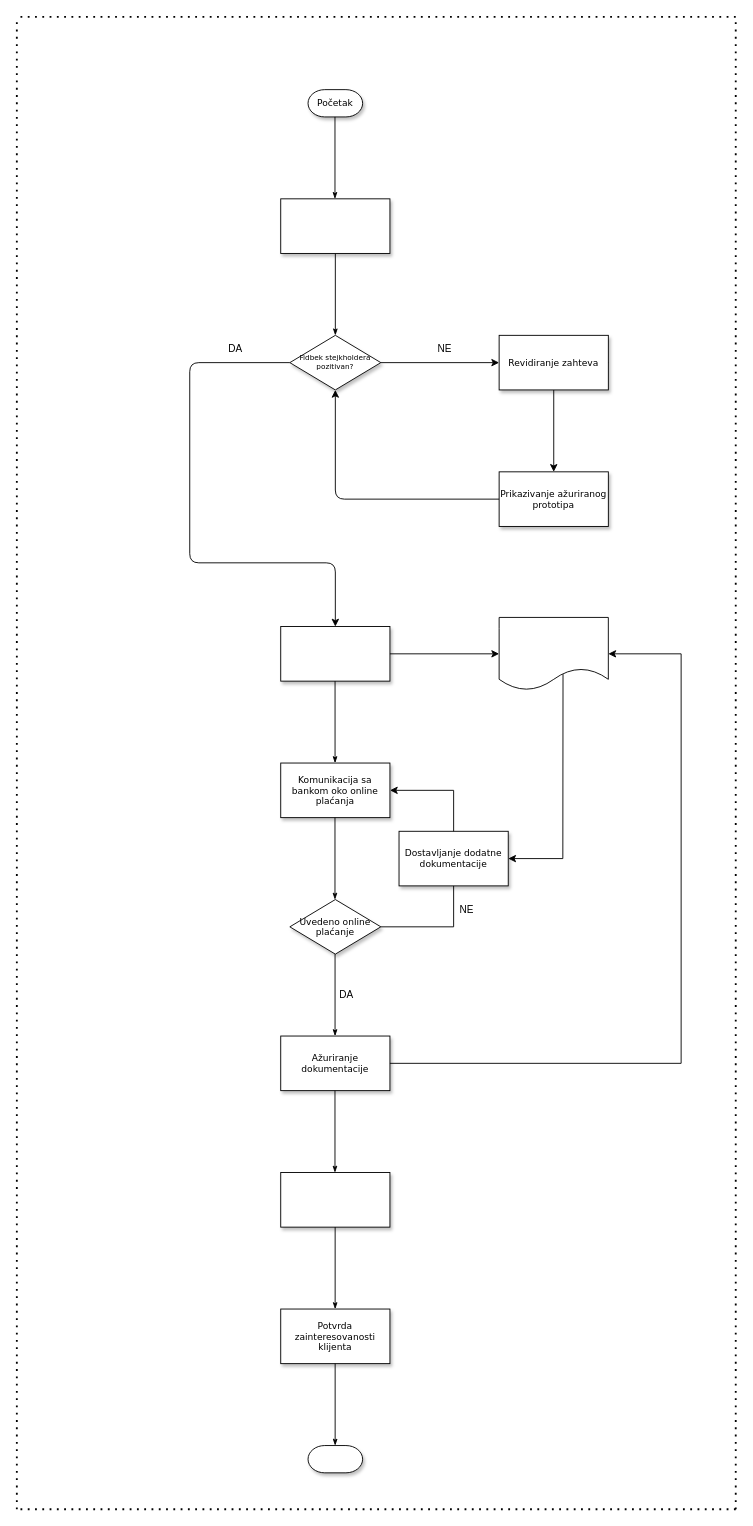
The diagram is 753 pixels wide and 1526 high, and some of its shapes have lost their labels. Here are the shapes that lost their labels. From the top down, the centre of each, then its label:
(335,227): Prikazivanje prototipa
(335,655): Analiziranje inženjerskih problema iz implementacije prototipa
(553,653): Dokumentacija
(335,1201): Komunikacija sa klijentima
(335,1460): Kraj
